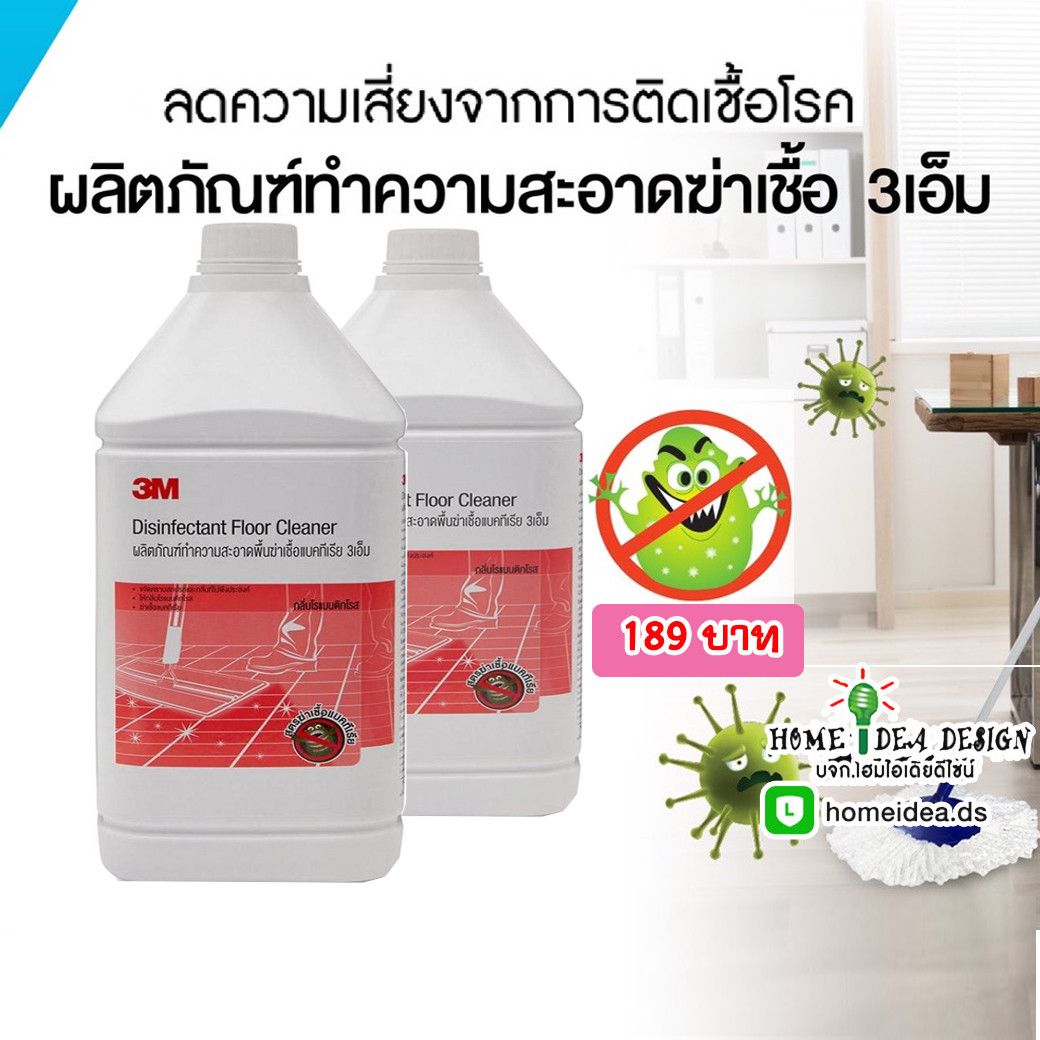Cleaning_solution: (87, 218, 417, 887), (314, 220, 591, 828)
